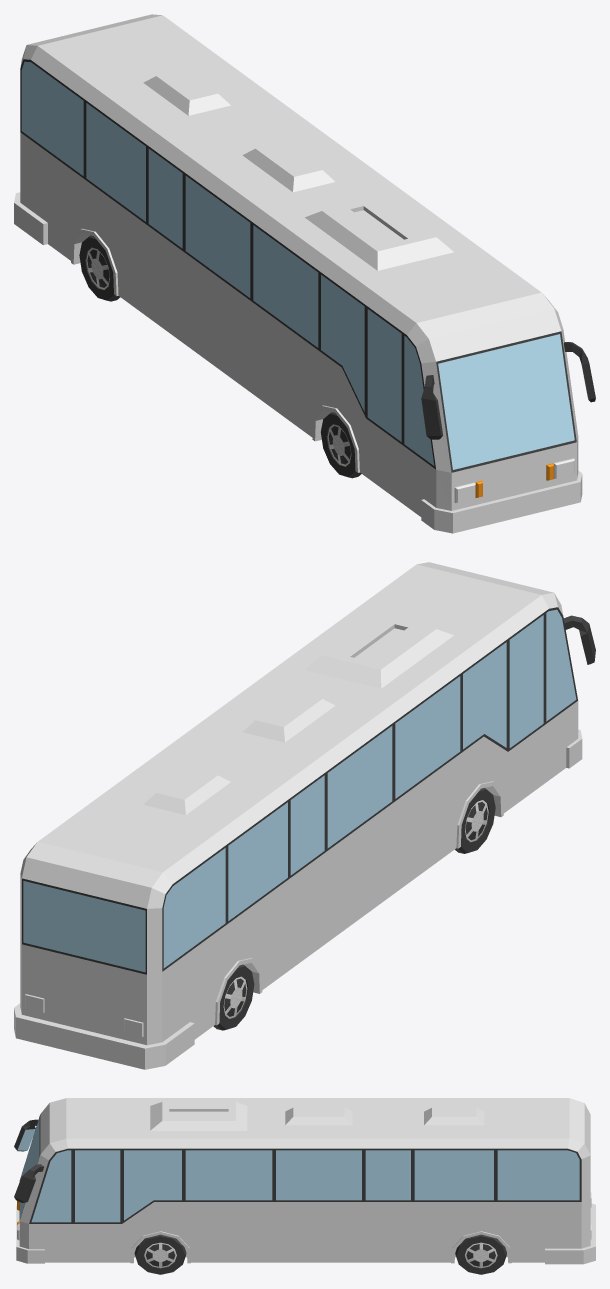
File: bus.glb
3 renders of one model, top to bottom at view 1: azimuth 30°, elevation 25°; view 2: azimuth 150°, elevation 25°; view 3: azimuth 270°, elevation 25°, orthographic. The views are drawn at different scales.
Visible parts, largest first — view 1: Bus; view 2: Bus; view 3: Bus.
Part boxes in pixels (x1,y1,x2,y2): Bus: [14, 14, 595, 533]; Bus: [14, 562, 595, 1069]; Bus: [14, 1098, 595, 1274].
Bounding box in the file's own units: 2.55 × 3.1 × 11.5.
1 material, 1 textured.
